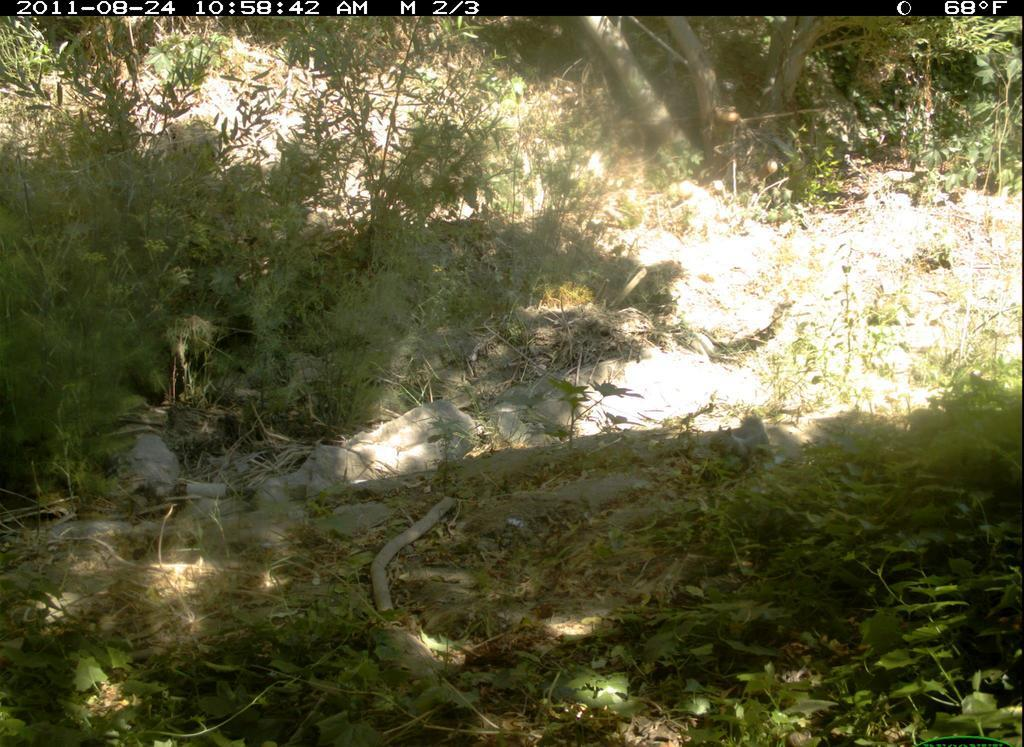squirrel: (713, 405, 786, 479)
